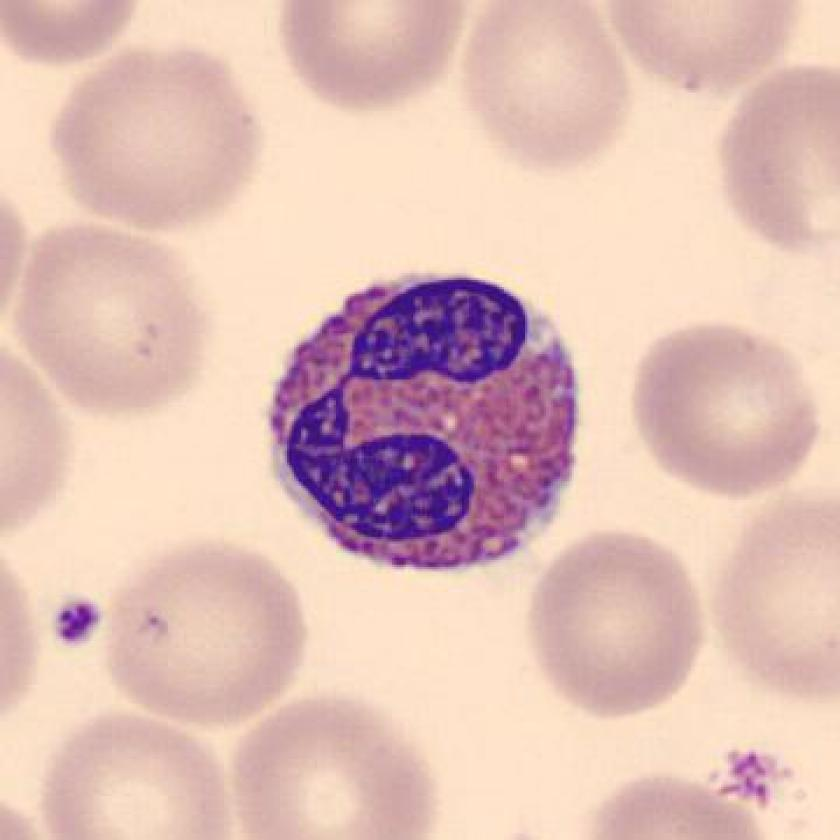eosinophil: (255, 256, 601, 594)
